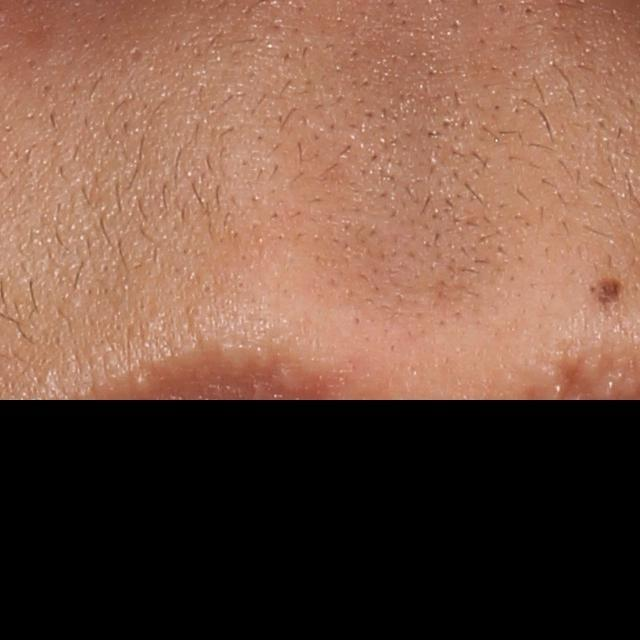nevus: (572, 268, 621, 316)
